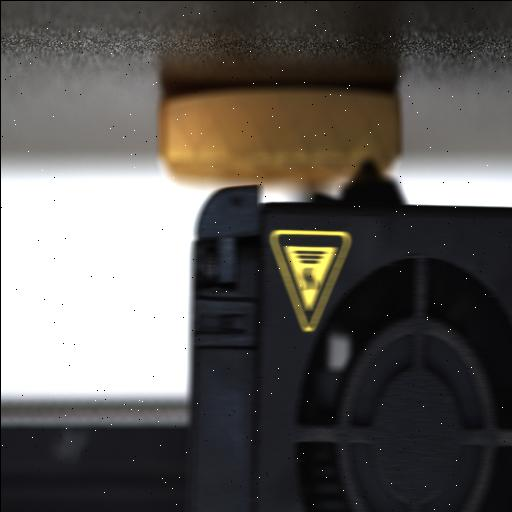warp: (166, 80, 400, 112)
